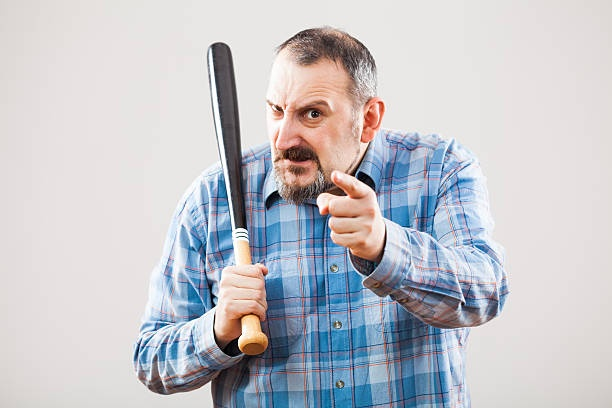bita: (203, 40, 273, 357)
